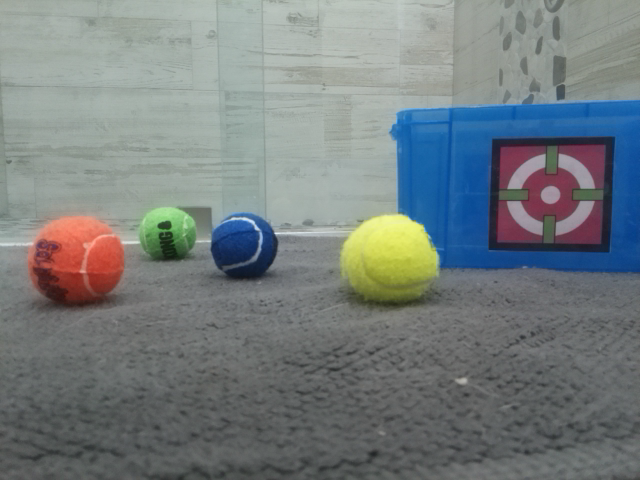blue-ball: (210, 212, 279, 280)
drop-bin: (488, 136, 615, 254)
green-ball: (138, 206, 198, 261)
orange-ball: (27, 214, 126, 307)
yellow-ball: (339, 213, 441, 305)
